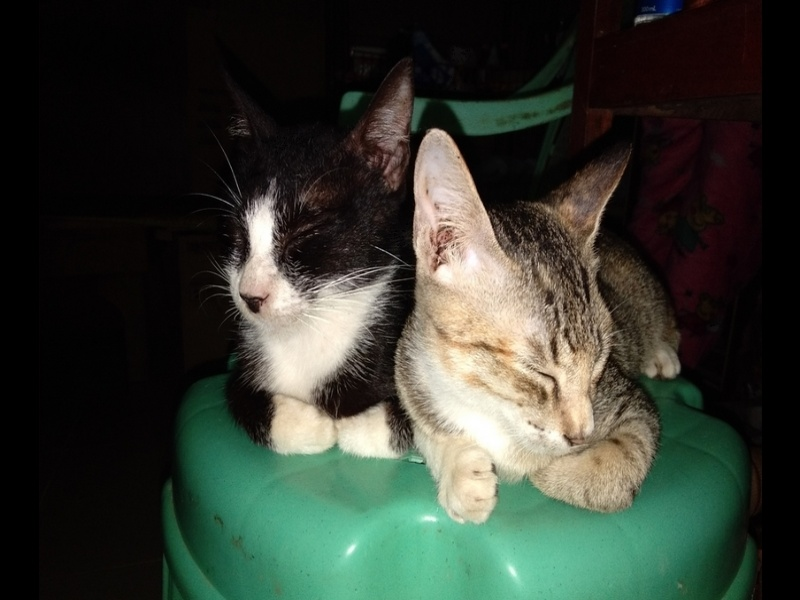cat: (394, 123, 691, 529), (196, 60, 417, 466)
